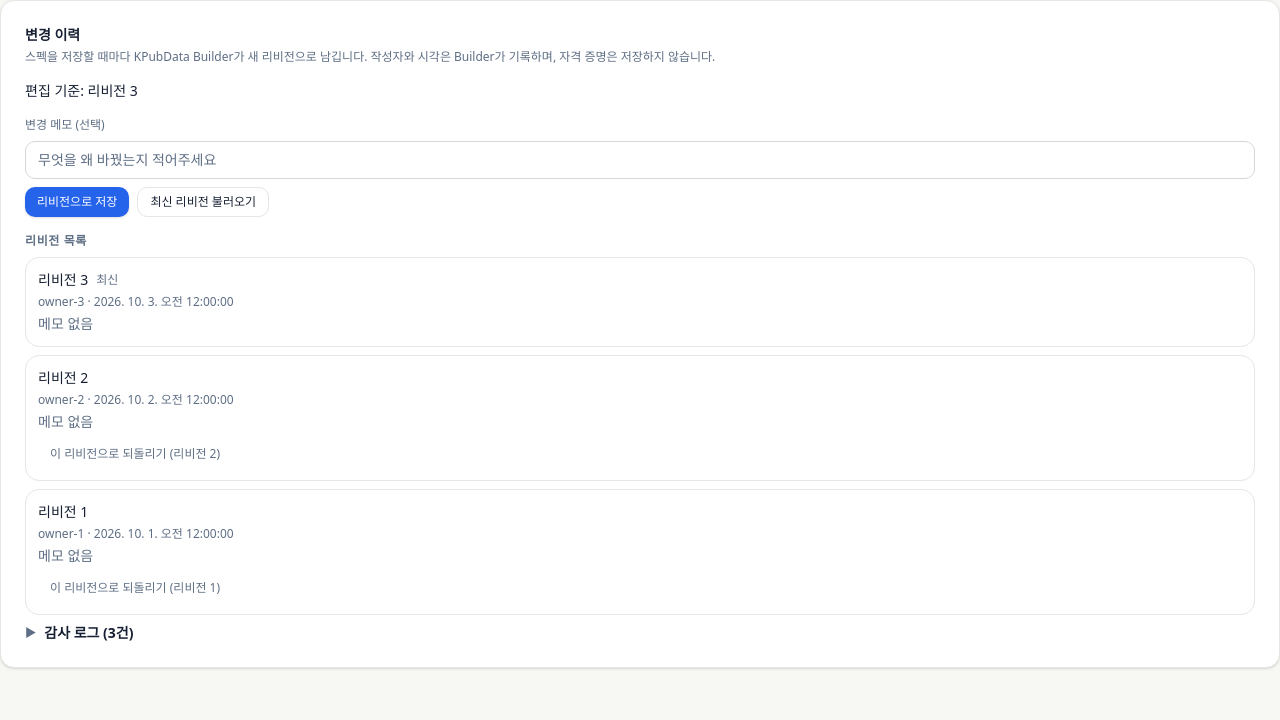
Test: SpecRevisionPanel › reverts as a new revision and loads it into the form
Expected: the text "편집 기준: 리비전 3" is shown, [25,81,138,100]
Click the button "이 리비전으로 되돌리기 (리비전 1)" at coordinates (135, 588), box [38,574,232,602]
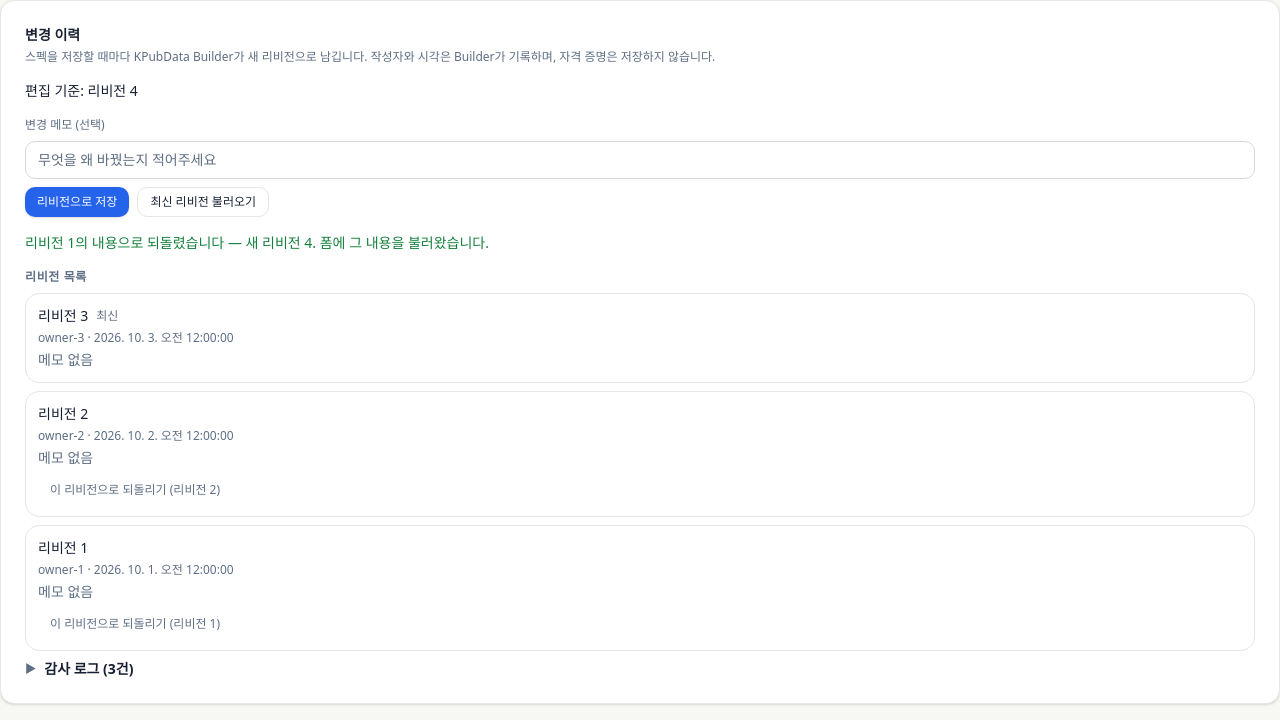
Now the text "리비전 1의 내용으로 되돌렸습니다 — 새 리비전 4. 폼에 그 내용을 불러왔습니다." is shown, box [25,233,489,252]
Now the text with test id "spec-revision-base" reads "편집 기준: 리비전 4", box [25,81,138,100]
